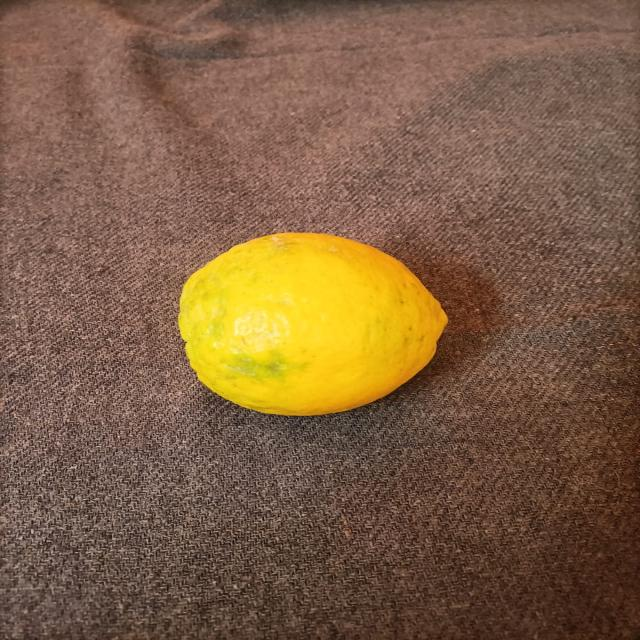orange: (143, 204, 466, 519)
